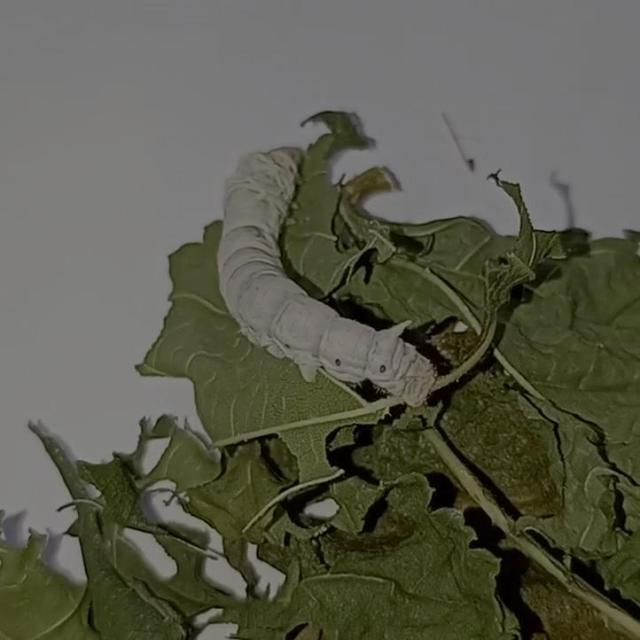Healthy: (194, 128, 440, 411)
